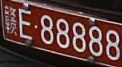E: (19, 9, 32, 40)
